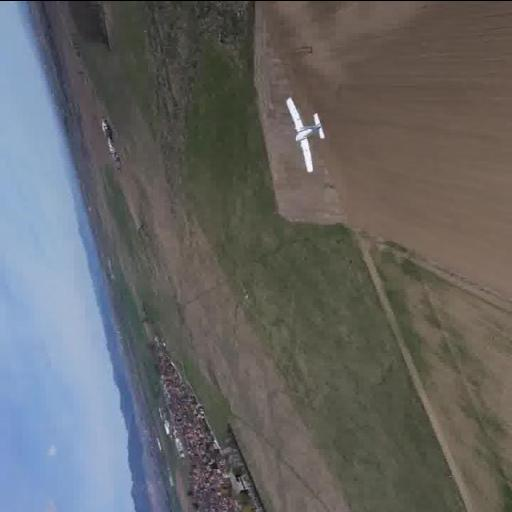uav: (274, 96, 336, 173)
